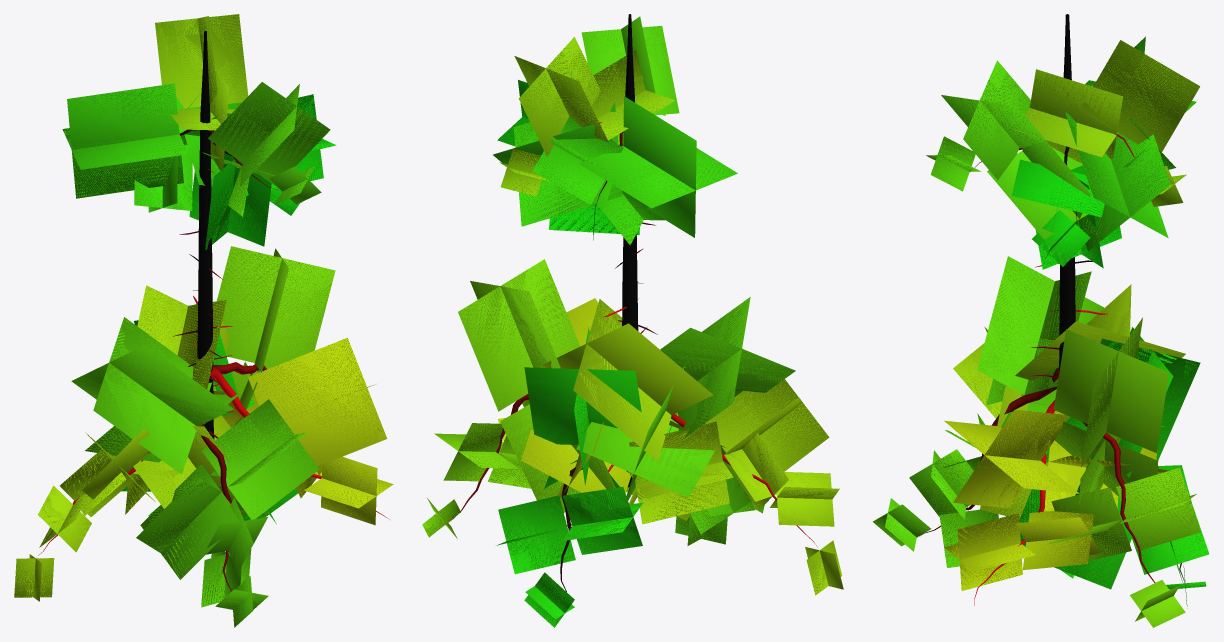
Rendered from Type_5_Tree_2.fbx.
The picture shows the model from 3 angles, left to right: view 1: azimuth 30°, elevation 25°; view 2: azimuth 150°, elevation 25°; view 3: azimuth 270°, elevation 25°; orthographic projection. The views are drawn at different scales.
Parts seen in each view (by area): view 1: Leaf, Trunk; view 2: Leaf, Trunk; view 3: Leaf, Trunk.
Part boxes in pixels (bbox=[...]): Leaf: bbox=[14, 14, 393, 627]; Trunk: bbox=[38, 31, 389, 591]; Leaf: bbox=[422, 16, 843, 627]; Trunk: bbox=[448, 14, 817, 591]; Leaf: bbox=[873, 36, 1209, 627]; Trunk: bbox=[919, 14, 1184, 605].
Bounding box in the file's own units: 3349 × 4943 × 2574.
